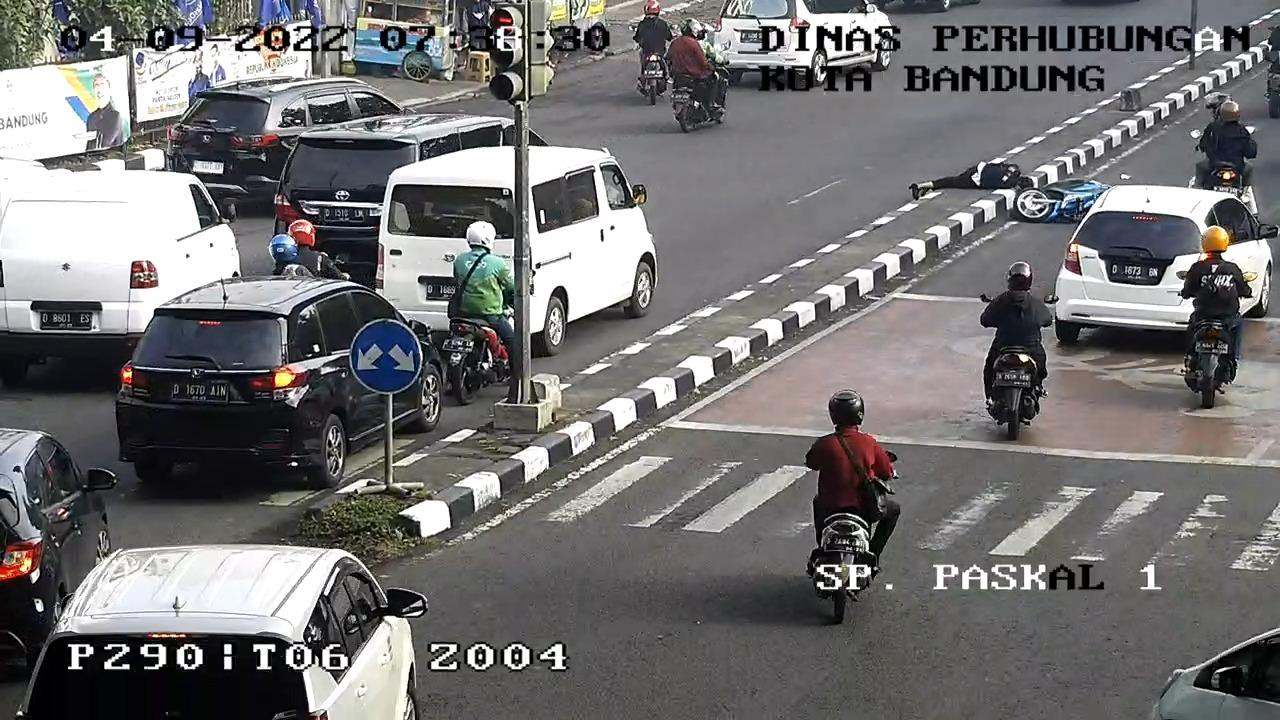accident: (900, 139, 1040, 205)
